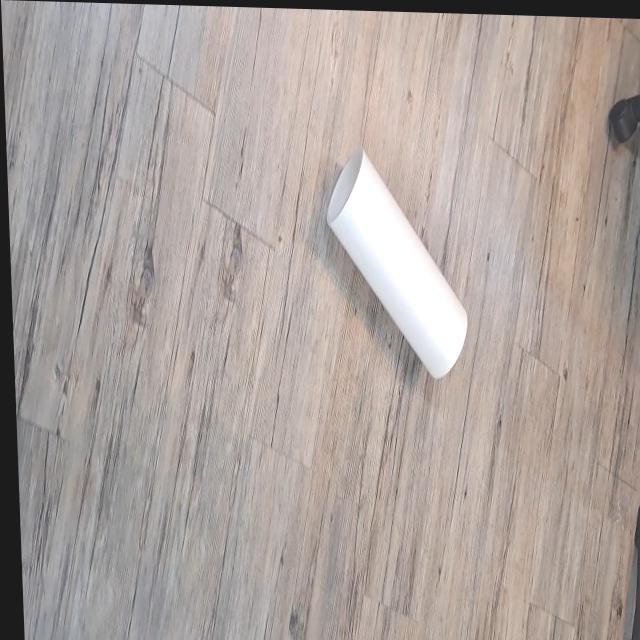CORAL: (295, 134, 481, 404)
